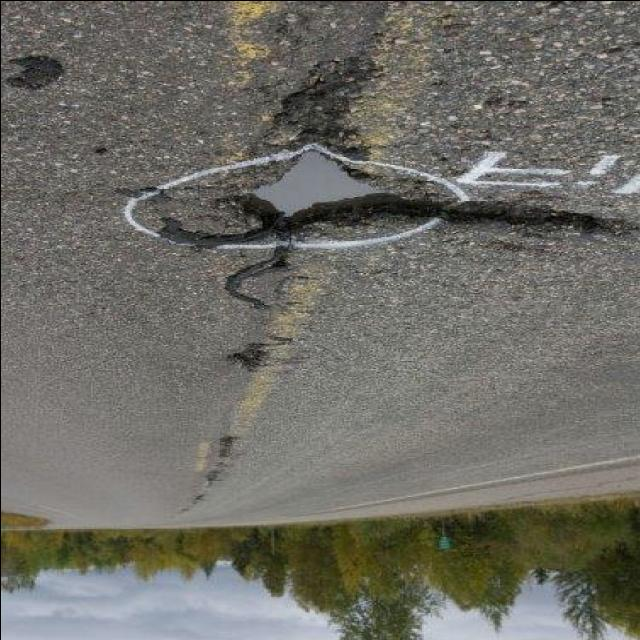jalan retak: (210, 250, 320, 322), (200, 426, 252, 490), (172, 481, 216, 518)
lubang: (162, 152, 634, 270), (243, 52, 403, 164), (222, 335, 294, 378)
